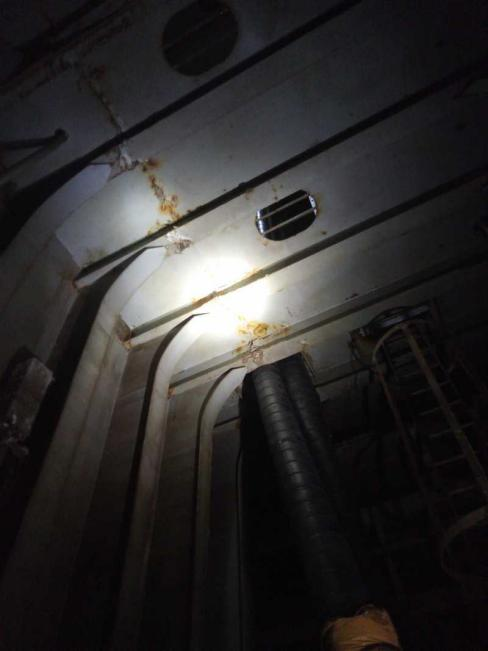corrosion: (138, 156, 185, 223), (228, 316, 290, 361)
